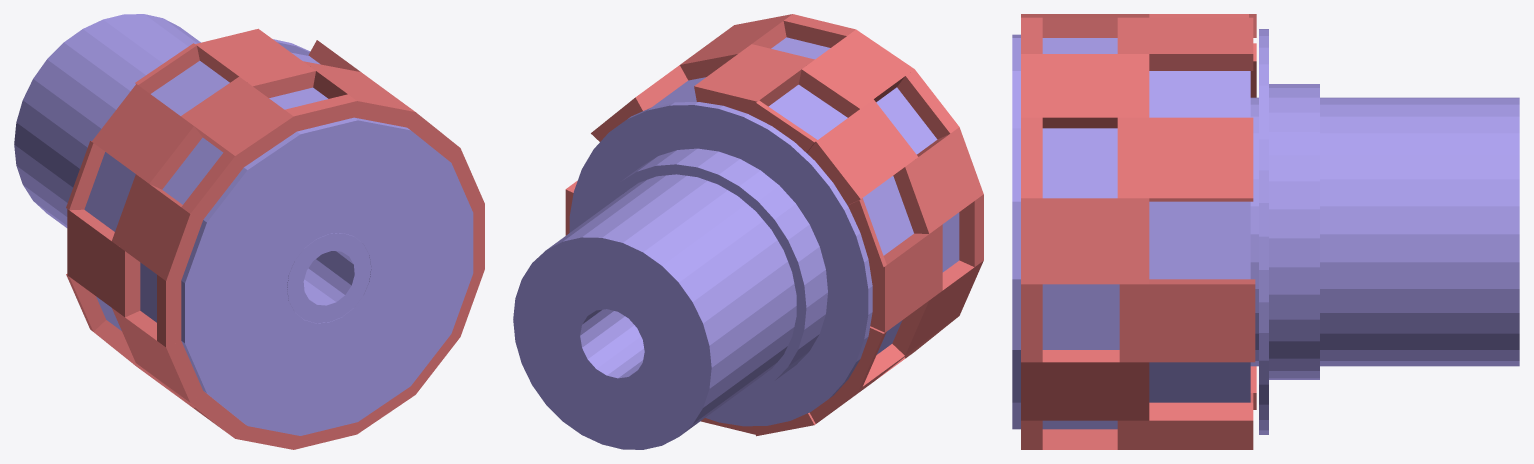
Rendered from Small-Wheel-Hub-SideC-cut1.glb.
3 renders of one model, left to right at view 1: azimuth 30°, elevation 25°; view 2: azimuth 150°, elevation 25°; view 3: azimuth 270°, elevation 25°, orthographic. The views are drawn at different scales.
Parts seen in each view (by area): view 1: null; view 2: null; view 3: null.
Part boxes in pixels (x1,y1,x2,y2): null: (14, 14, 484, 449); null: (513, 14, 983, 449); null: (1012, 14, 1519, 449).
Bounding box in the file's own units: 1.7 × 1.7 × 2.
